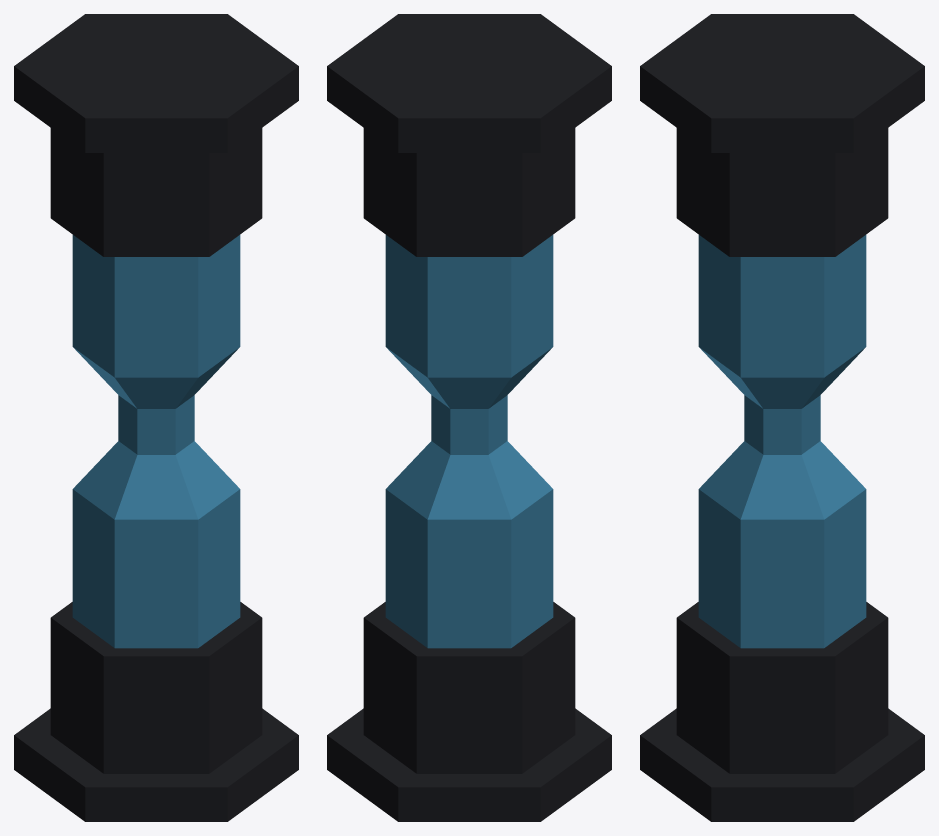
The model's file is SM_Hourglass.fbx.
3 views of the same model, side by side, from view 1: azimuth 30°, elevation 25°; view 2: azimuth 150°, elevation 25°; view 3: azimuth 270°, elevation 25° (orthographic).
Visible parts, largest first — view 1: SM_Hourglass; view 2: SM_Hourglass; view 3: SM_Hourglass.
Part boxes in pixels (box(x1,y1,x2,y2)): SM_Hourglass: box(14, 14, 298, 821); SM_Hourglass: box(327, 14, 611, 821); SM_Hourglass: box(640, 14, 924, 821).
Size of the model in its own units: 4.89 by 15.4 by 5.65.
